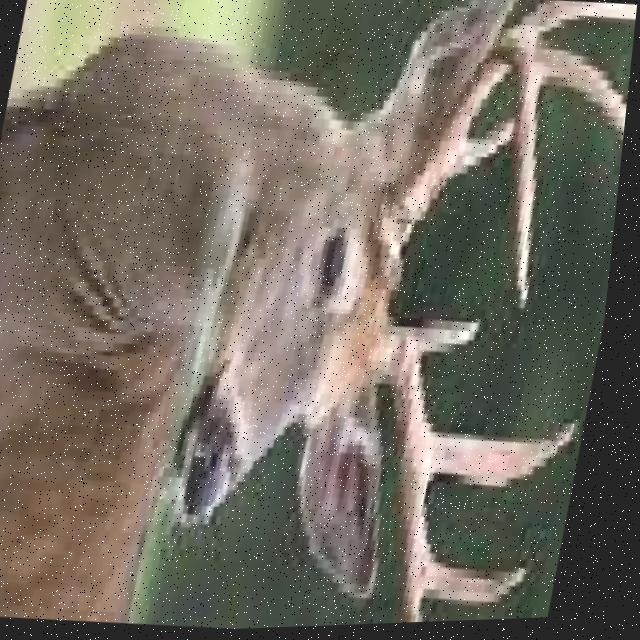L-G1: (426, 319, 493, 357)
L-G2: (438, 421, 593, 491), (517, 2, 638, 36)
L-G3: (544, 43, 630, 151), (437, 547, 543, 611)
L-G4: (517, 98, 546, 320)
L-R: (374, 311, 441, 627)
